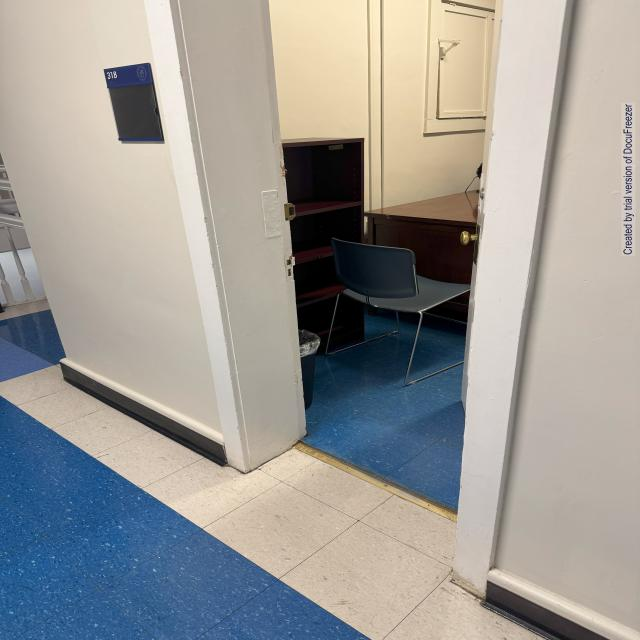chair: (323, 226, 472, 386)
